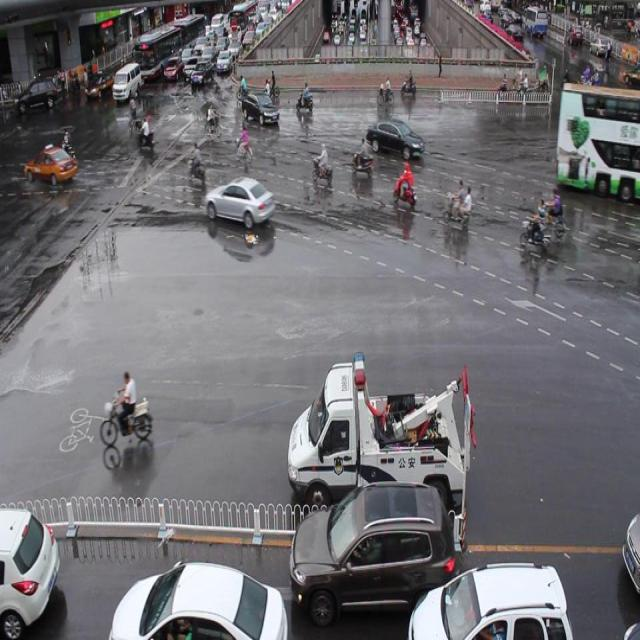bus: (287, 352, 473, 518)
car: (289, 481, 455, 622), (111, 558, 286, 640), (408, 560, 572, 640), (0, 502, 60, 640), (204, 175, 275, 227), (367, 116, 423, 163), (620, 510, 640, 594), (241, 90, 280, 127)
van: (555, 81, 640, 199)
